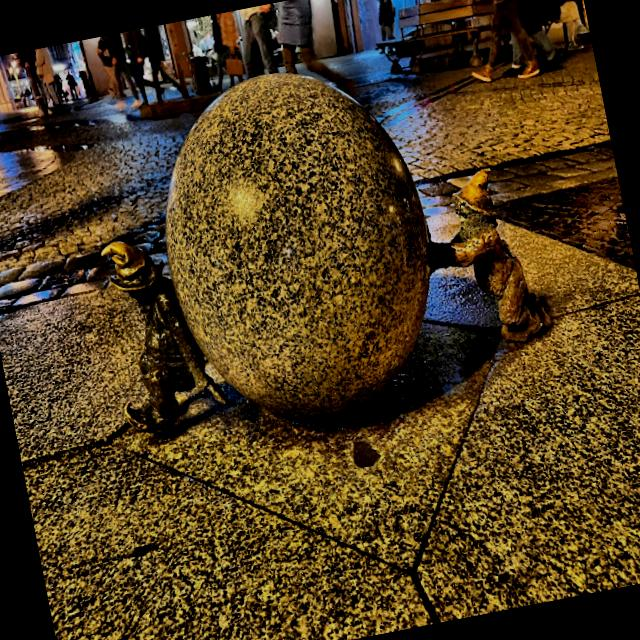Syzyfki: (52, 13, 576, 471)
